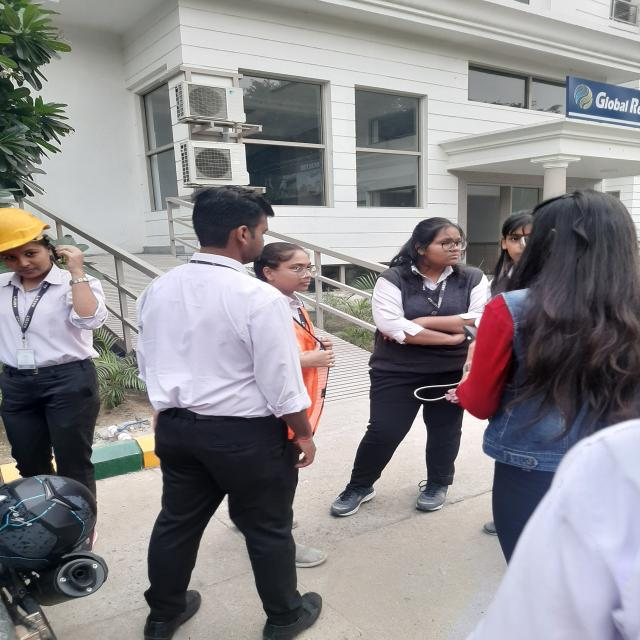no jacket: (3, 205, 108, 503)
unsafe: (127, 181, 340, 640), (363, 220, 475, 521)
